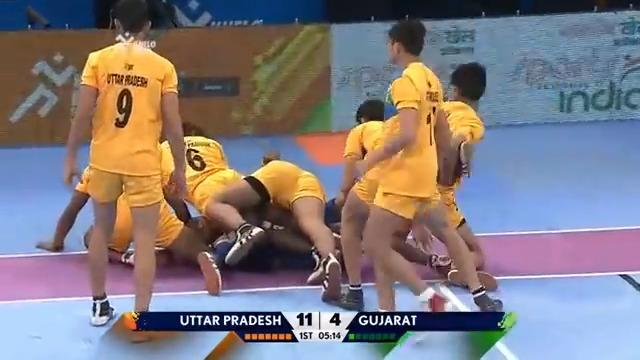Player: (351, 18, 504, 313), (62, 0, 188, 334), (204, 154, 342, 296), (415, 61, 499, 291), (158, 133, 267, 268)
